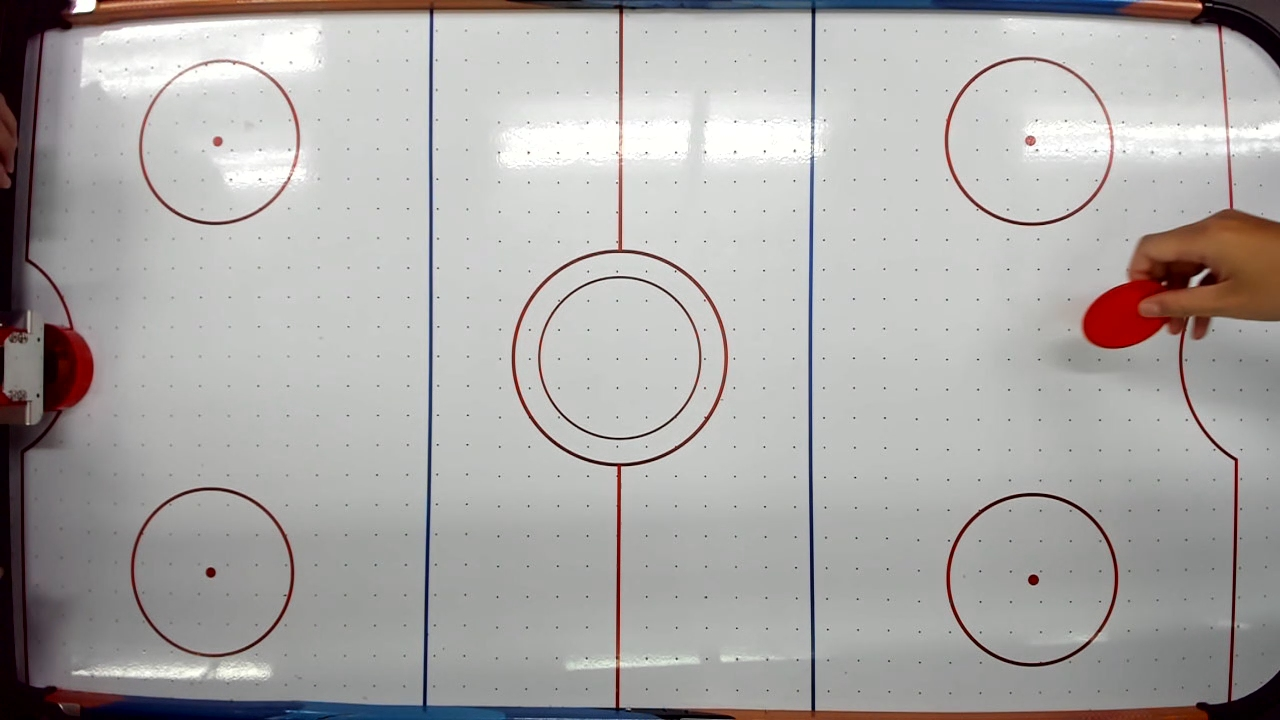ball: (1082, 278, 1162, 358)
